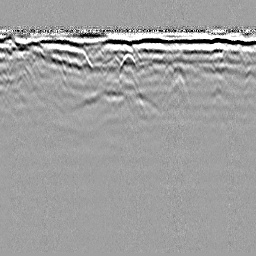cavity: (117, 54, 138, 73)
